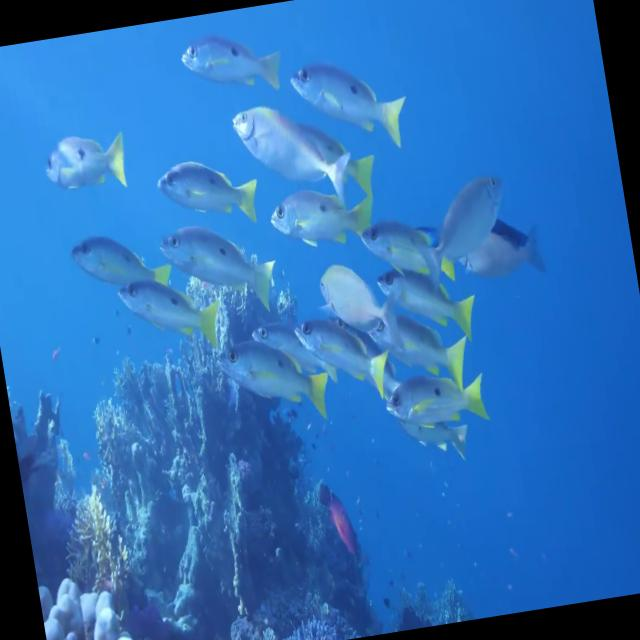fish: (230, 96, 356, 215), (288, 49, 410, 158), (157, 218, 280, 324), (213, 328, 335, 434), (373, 258, 484, 358), (119, 270, 229, 364), (292, 304, 392, 406), (419, 170, 516, 266), (154, 152, 262, 235), (67, 227, 174, 309), (267, 178, 376, 252), (382, 369, 492, 442), (316, 256, 401, 350), (358, 213, 459, 291), (180, 26, 283, 99), (41, 128, 127, 197)
